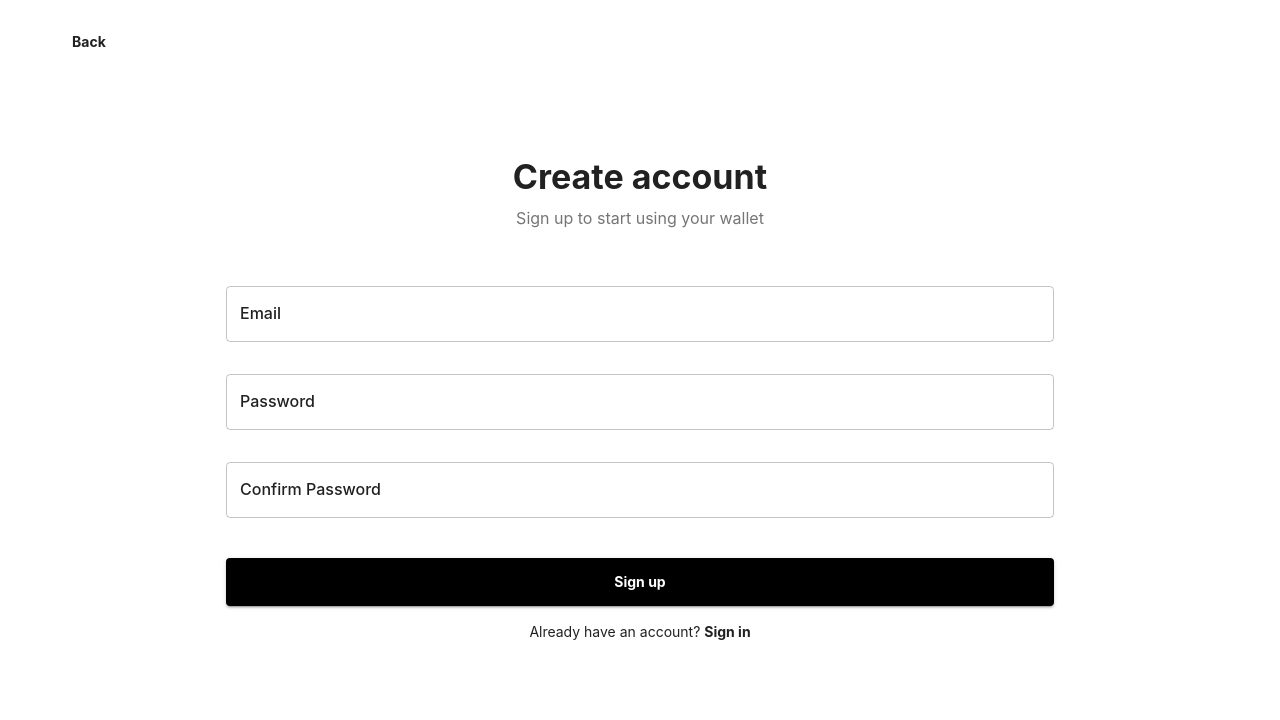
Test: Register Page › shows error if passwords do not match
Type "test@example.com" into the field with id "email".
click(640, 314); type("test@example.com")  # box [226,286,1054,342]
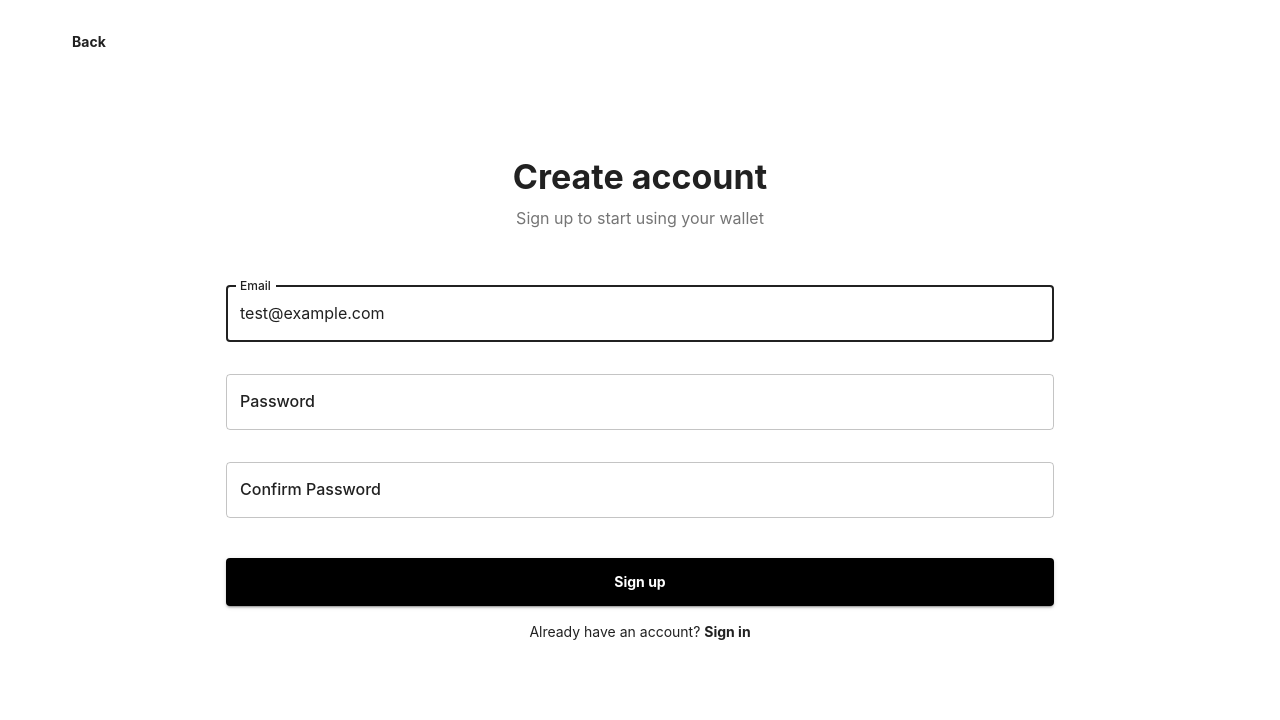
Type "password123" into the password field labelled "Password".
click(640, 402); type("password123")  # box [226,374,1054,430]
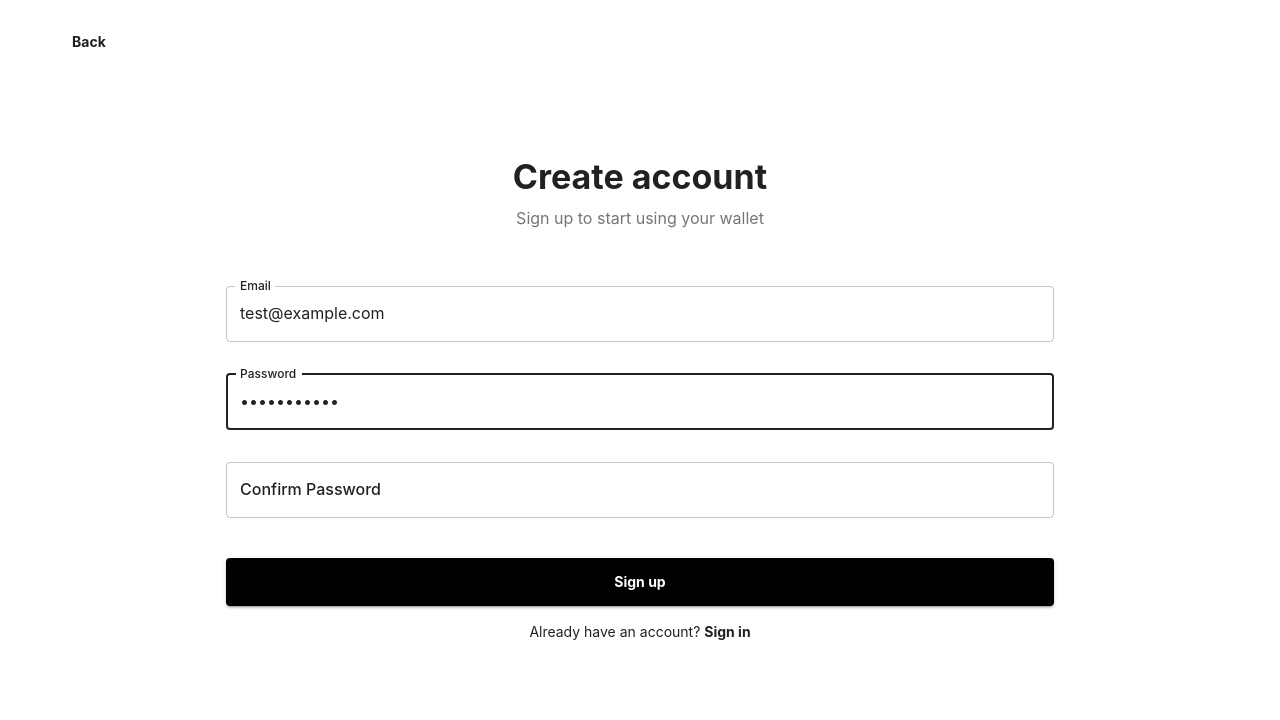
Type "different123" into the password field with id "confirm-password".
click(640, 490); type("different123")  # box [226,462,1054,518]
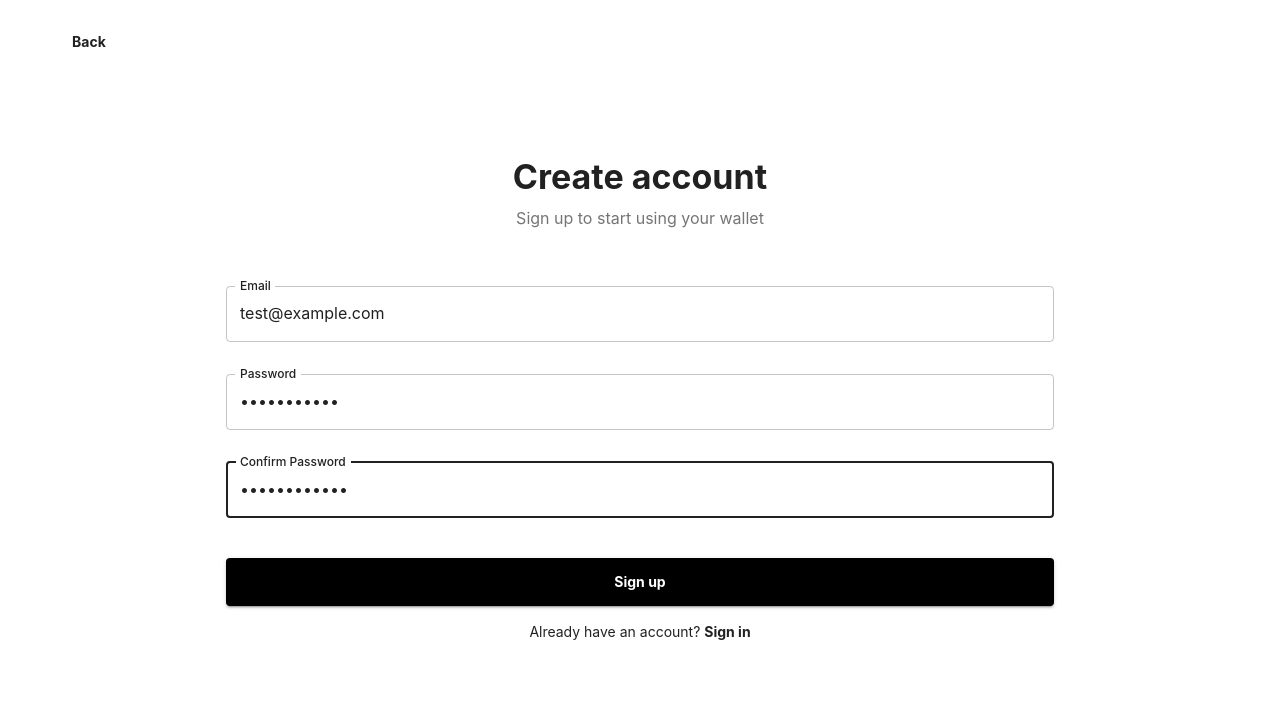
Click the button "Sign up".
click(640, 583)  # box [226,558,1054,607]
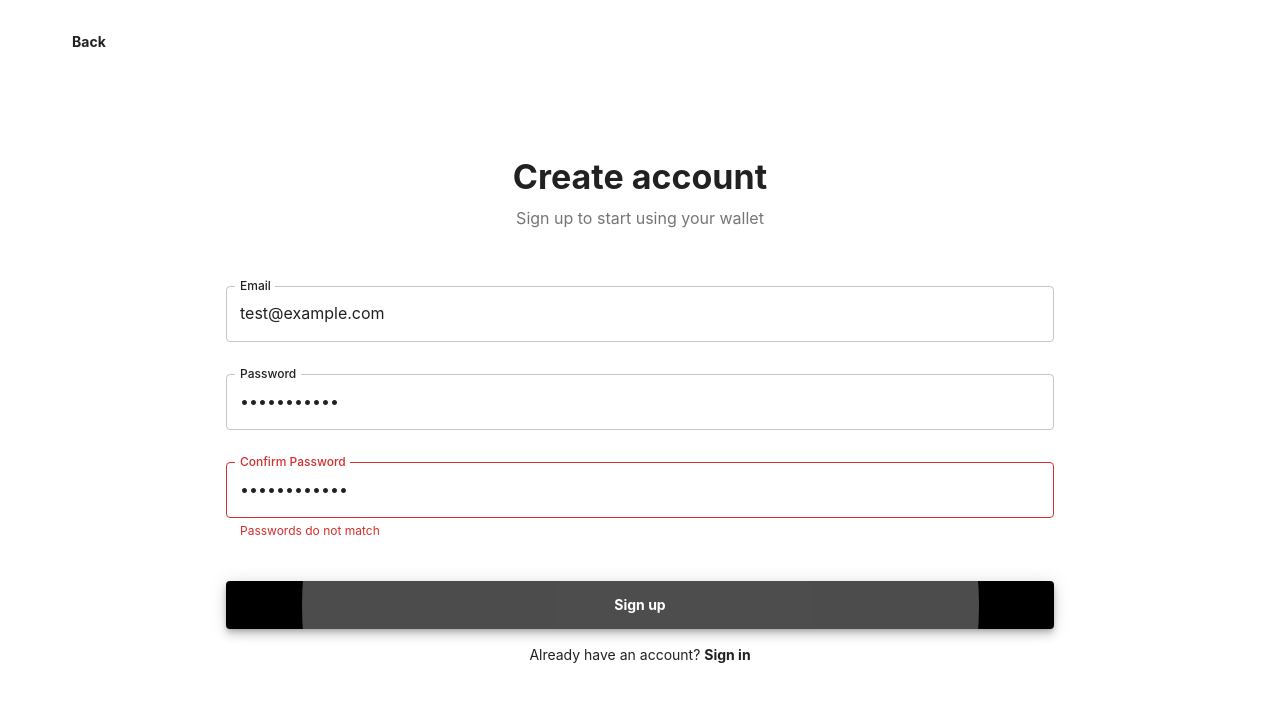
Expected: the text "Passwords do not match" is shown, [240,523,380,538]
